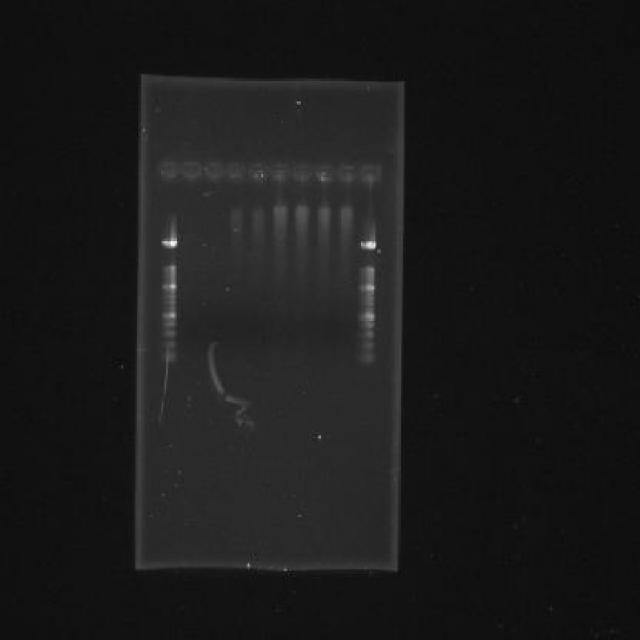L: (153, 153, 387, 196)
M: (352, 205, 383, 373), (153, 208, 181, 369)
P: (356, 238, 382, 255), (156, 237, 178, 250), (158, 351, 178, 364), (357, 352, 375, 366), (355, 312, 377, 322), (356, 340, 374, 351), (158, 282, 177, 292), (157, 264, 177, 273), (356, 330, 376, 339), (356, 284, 378, 292), (158, 330, 177, 339), (158, 312, 176, 321), (158, 340, 176, 349), (357, 265, 375, 273), (356, 322, 376, 329), (158, 322, 177, 329), (158, 306, 177, 312), (358, 301, 376, 307), (160, 300, 177, 306), (161, 294, 176, 300), (357, 295, 375, 300), (358, 308, 376, 312)
Pc: (224, 158, 247, 184), (178, 158, 202, 182), (156, 158, 178, 184), (335, 160, 357, 186), (360, 161, 382, 187), (248, 159, 269, 184), (292, 160, 314, 183), (270, 160, 290, 185), (314, 162, 336, 184), (202, 158, 222, 182)
